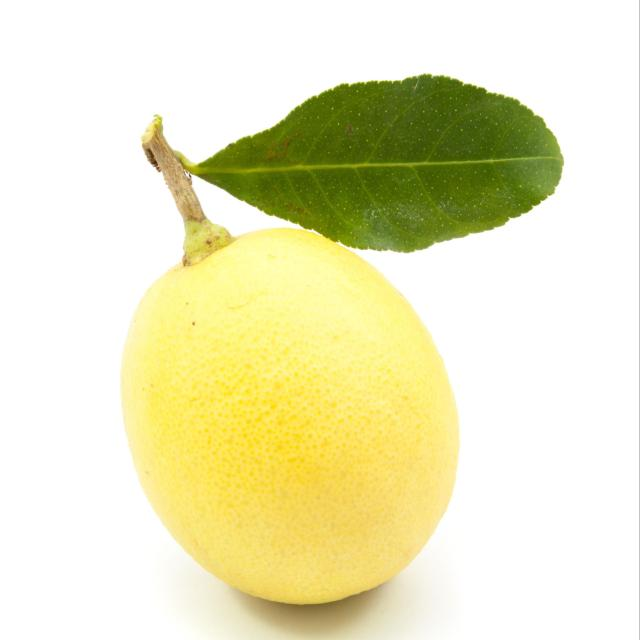lemon: (109, 69, 574, 614)
